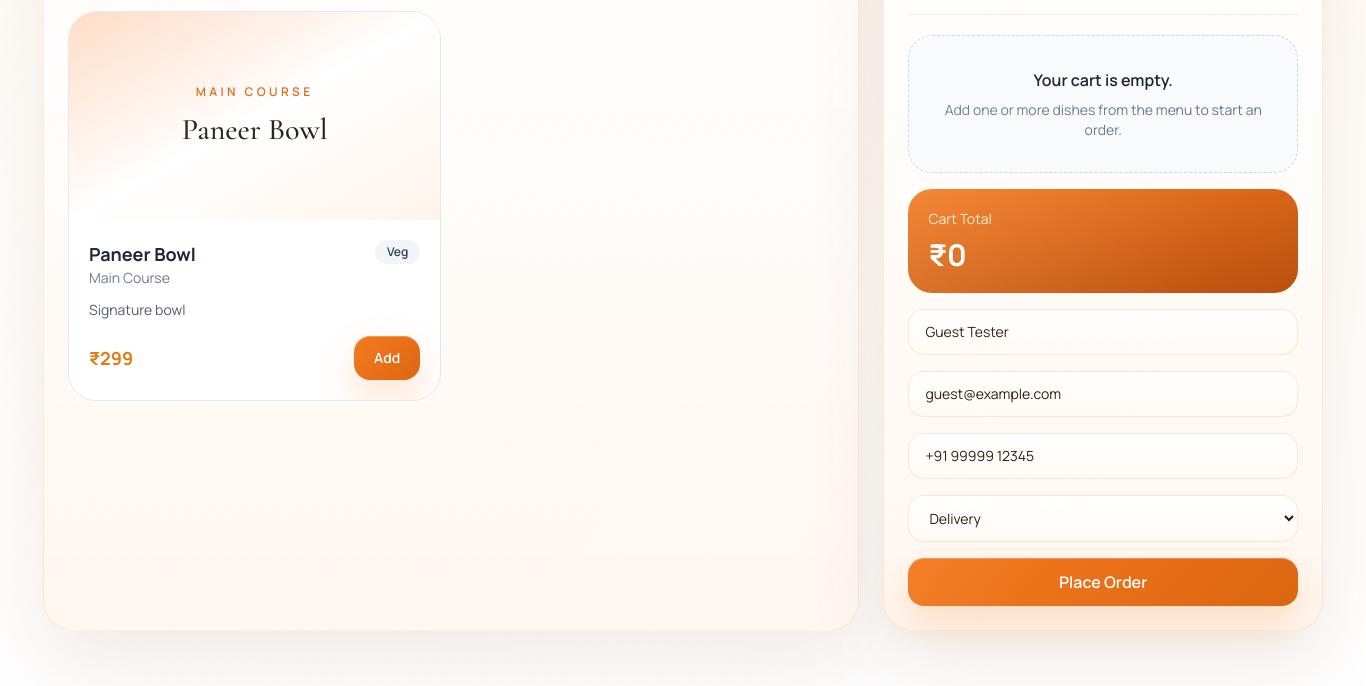
Scenario: GuestOrderPage › loads the guest menu and submits an order
(page scrolled)
Click the button with aria-label "add paneer bowl to cart" at (387, 358), box [354, 336, 420, 380]
(page scrolled)
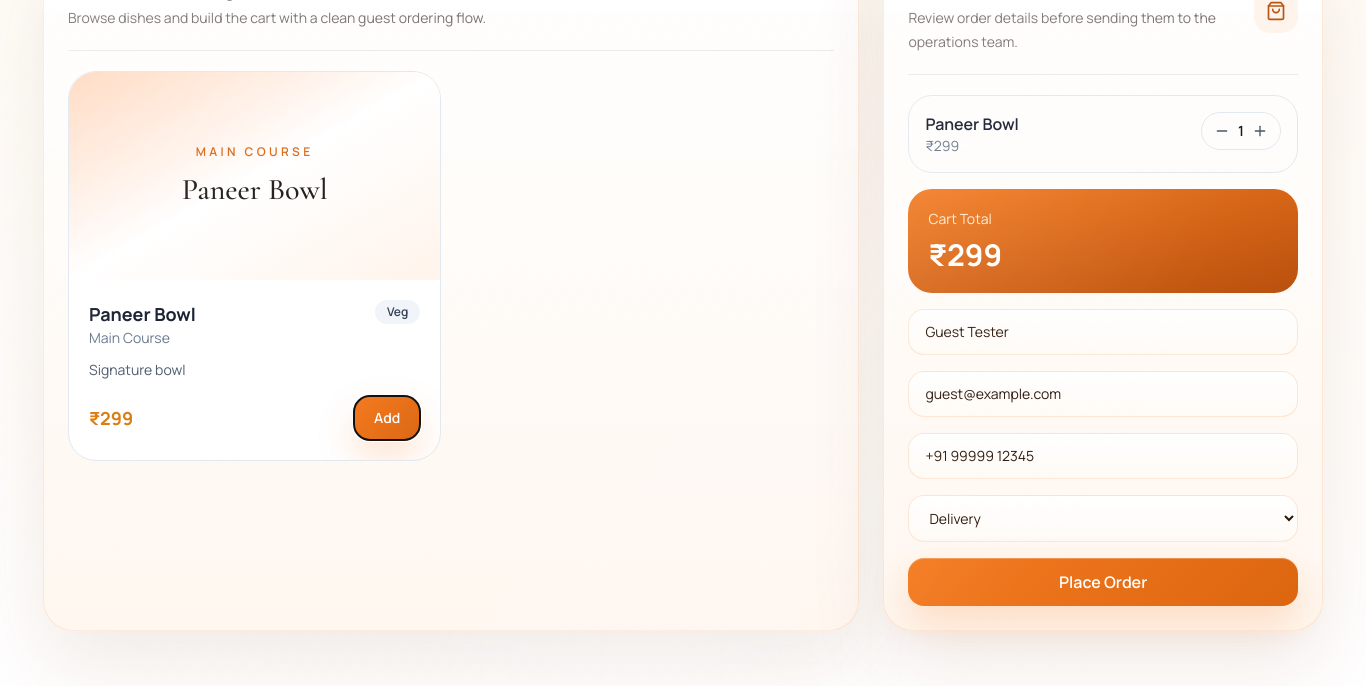
Click the button "Place Order" at (1103, 582), box [908, 558, 1298, 606]
(page scrolled)
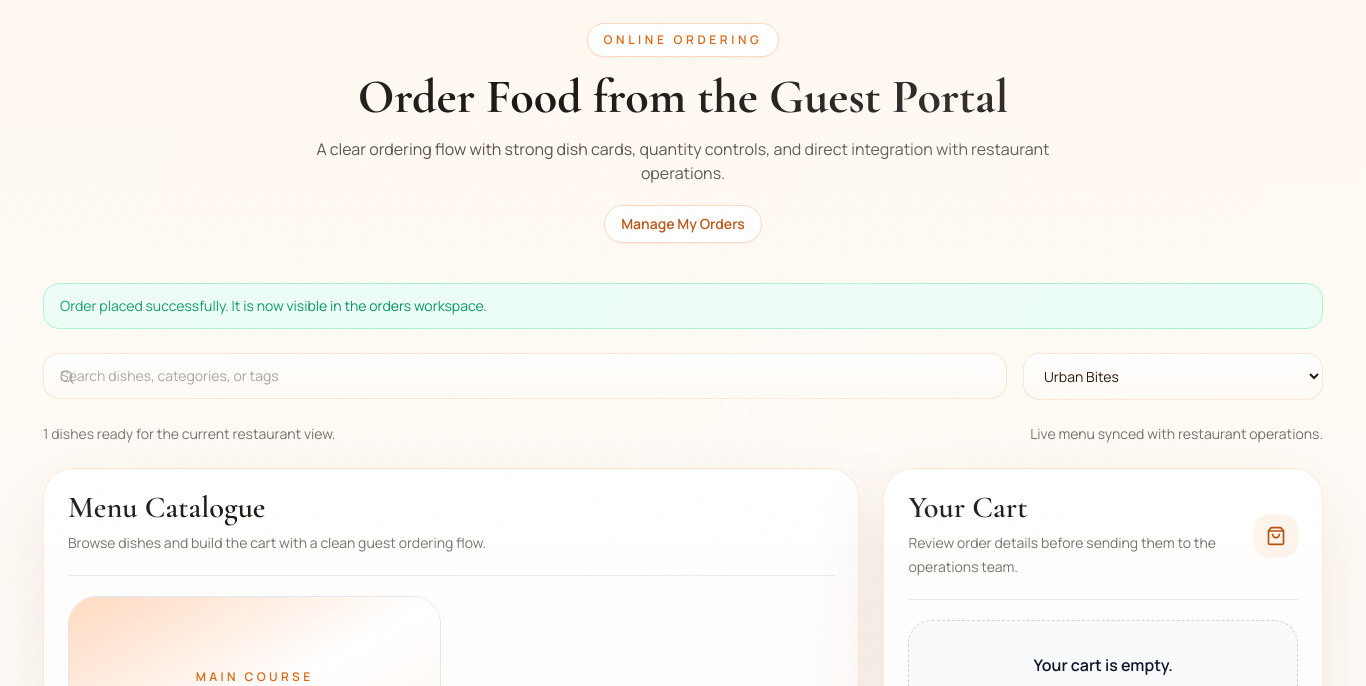
Result: the text "Order placed successfully" is shown at [60, 296, 487, 315]
